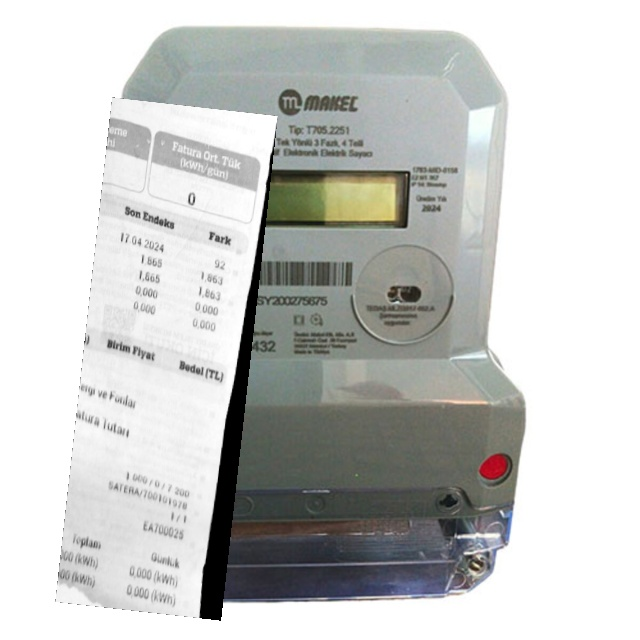electricity-bill: (54, 96, 278, 620)
